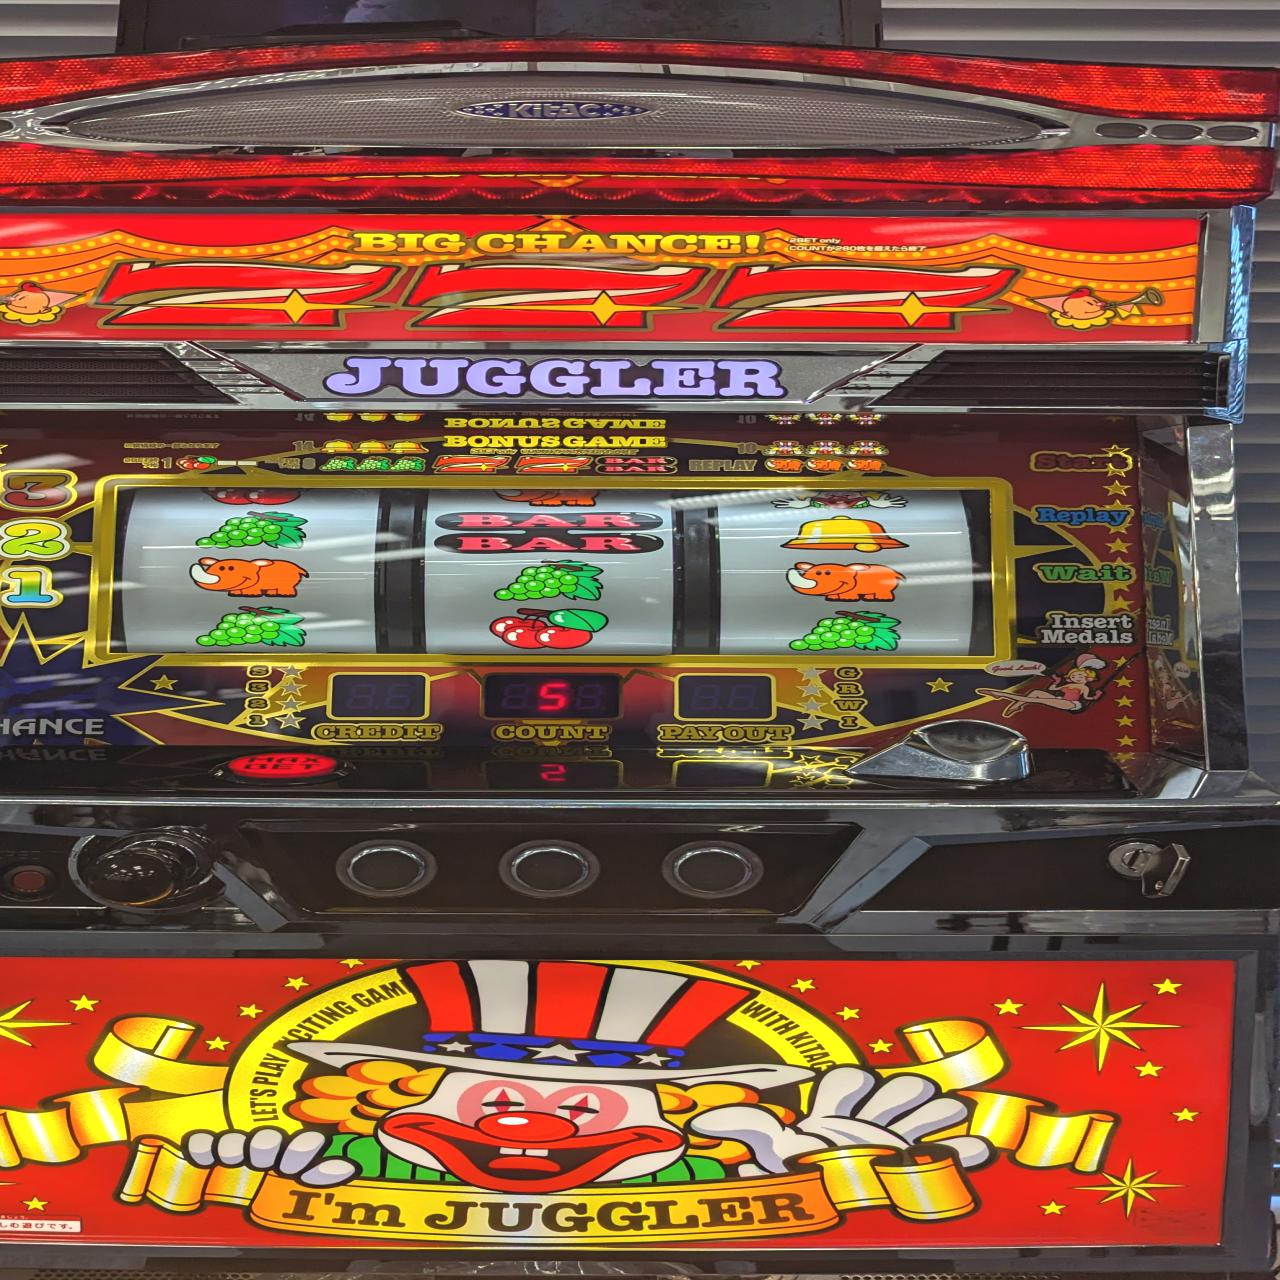8: (186, 557, 309, 600), (783, 561, 908, 604)
Display: (95, 475, 1008, 665)
bar: (431, 510, 668, 554)
bell: (778, 516, 911, 554)
cherry: (486, 607, 611, 651)
grape: (493, 559, 608, 605), (195, 605, 309, 649), (785, 611, 901, 652), (195, 510, 308, 550)
